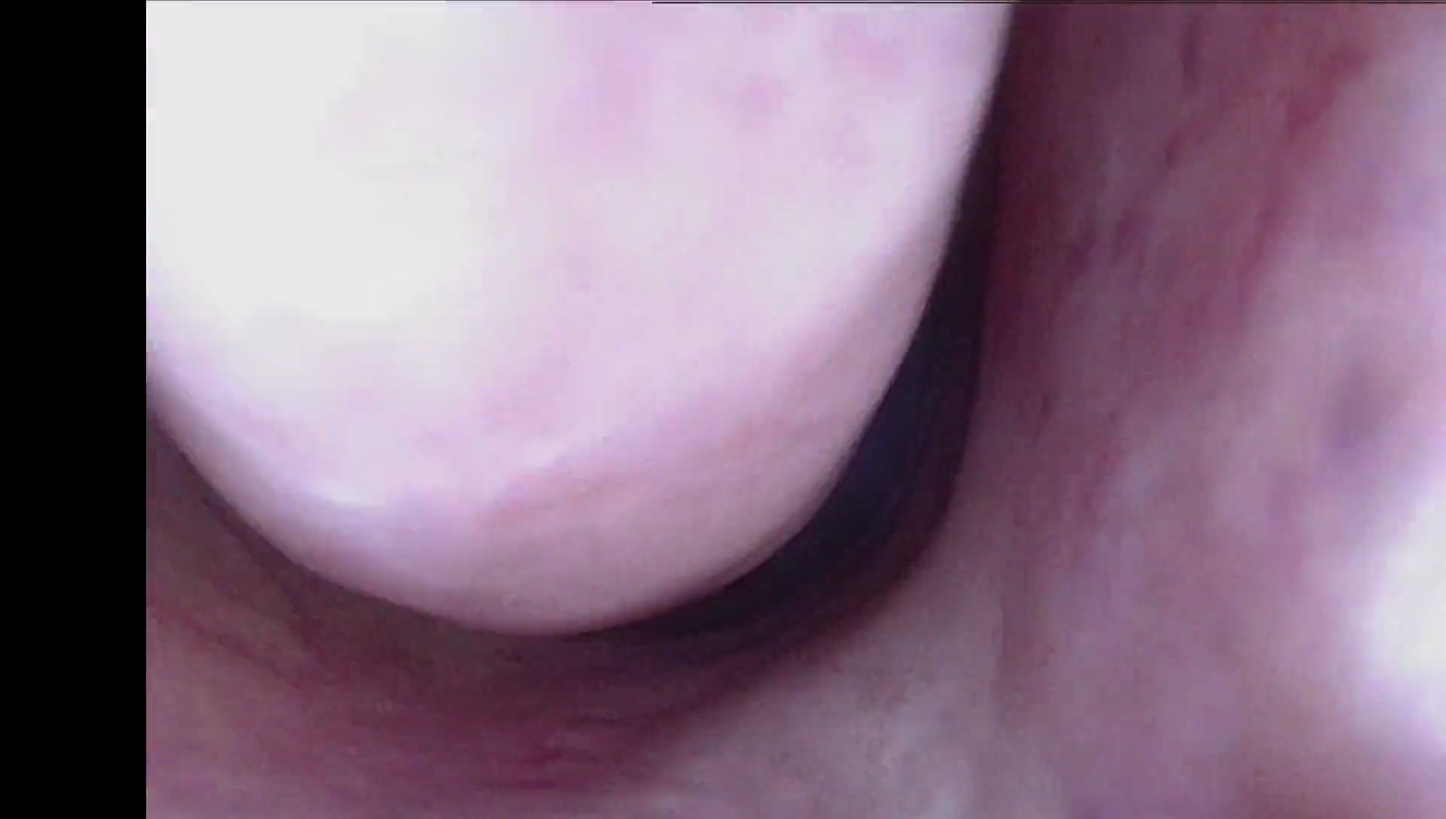close_wall: (155, 0, 932, 495), (1090, 78, 1446, 818)
next: (550, 101, 1043, 678)
